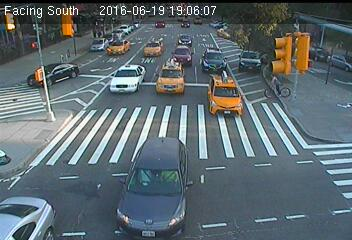neg: (128, 47, 170, 102), (212, 79, 239, 115), (196, 43, 223, 79), (262, 69, 285, 100), (239, 39, 258, 63)
pos: (86, 26, 96, 39), (97, 27, 105, 39)
